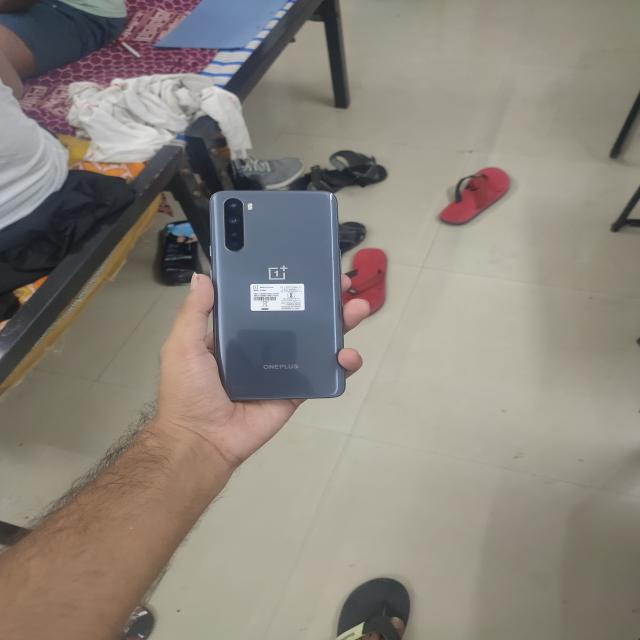Phone: (208, 185, 350, 402)
